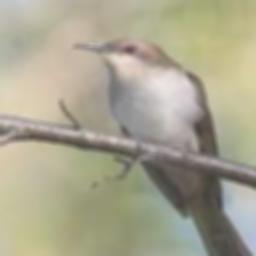Cuckoo: (72, 38, 256, 256)
